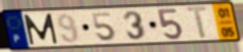3: (121, 10, 146, 41)
5: (155, 7, 186, 41), (90, 12, 118, 42)
9: (57, 13, 81, 44)
M: (22, 12, 60, 46)
T: (184, 5, 212, 41)
